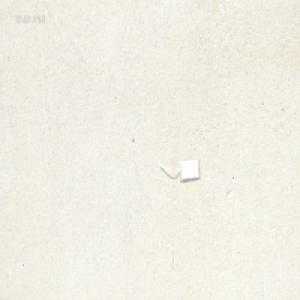LuggageTag: (158, 156, 199, 183)
